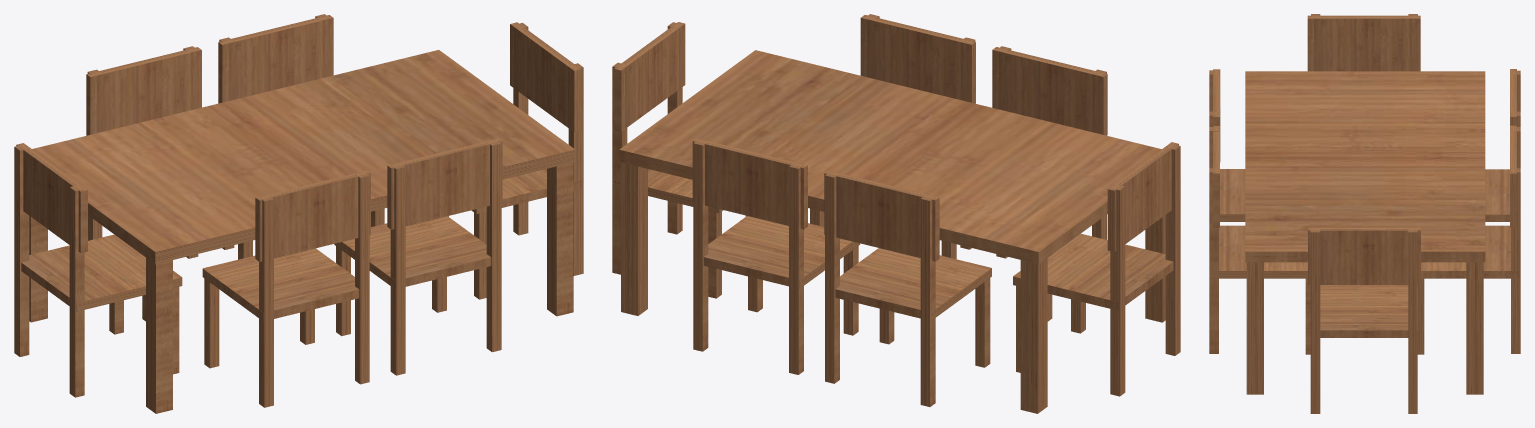
The model's file is table.gltf.
3 renders of one model, left to right at view 1: azimuth 30°, elevation 25°; view 2: azimuth 150°, elevation 25°; view 3: azimuth 270°, elevation 25°, orthographic. The views are drawn at different scales.
Visible parts, largest first — view 1: Cube, Cube.011, Cube.022, Cube.028, Cube.034, Cube.023, Cube.005, Cube.029, Cube.035, Cube.001, Cube.002, Cube.010 (+14 smaller); view 2: Cube, Cube.023, Cube.034, Cube.016, Cube.011, Cube.022, Cube.005, Cube.017, Cube.035, Cube.004, Cube.003, Cube.010 (+14 smaller); view 3: Cube, Cube.010, Cube.035, Cube.040, Cube.002, Cube.003, Cube.029, Cube.017, Cube.037, Cube.038, Cube.020, Cube.031 (+8 smaller).
Part boxes in pixels (x1=…): Cube: x1=32, y1=50, x2=575, y2=264; Cube.011: x1=86, y1=47, x2=201, y2=135; Cube.022: x1=218, y1=15, x2=333, y2=103; Cube.028: x1=202, y1=248, x2=359, y2=321; Cube.034: x1=387, y1=138, x2=502, y2=229; Cube.023: x1=255, y1=170, x2=370, y2=261; Cube.005: x1=21, y1=234, x2=182, y2=311; Cube.029: x1=334, y1=216, x2=491, y2=288; Cube.035: x1=510, y1=22, x2=581, y2=132; Cube.001: x1=146, y1=258, x2=172, y2=413; Cube.002: x1=547, y1=162, x2=573, y2=316; Cube.010: x1=16, y1=143, x2=87, y2=252; Cube: x1=619, y1=50, x2=1161, y2=264; Cube.023: x1=992, y1=47, x2=1107, y2=135; Cube.034: x1=860, y1=15, x2=975, y2=103; Cube.016: x1=835, y1=248, x2=991, y2=320; Cube.011: x1=824, y1=170, x2=939, y2=261; Cube.022: x1=692, y1=138, x2=807, y2=229; Cube.005: x1=1013, y1=233, x2=1173, y2=310; Cube.017: x1=703, y1=216, x2=860, y2=288; Cube.035: x1=614, y1=22, x2=685, y2=131; Cube.004: x1=1020, y1=258, x2=1047, y2=413; Cube.003: x1=621, y1=162, x2=647, y2=315; Cube.010: x1=1107, y1=142, x2=1178, y2=251; Cube: x1=1245, y1=71, x2=1485, y2=262; Cube.010: x1=1307, y1=15, x2=1420, y2=71; Cube.035: x1=1308, y1=227, x2=1420, y2=284; Cube.040: x1=1320, y1=285, x2=1417, y2=337; Cube.002: x1=1246, y1=262, x2=1263, y2=394; Cube.003: x1=1466, y1=262, x2=1483, y2=394; Cube.029: x1=1210, y1=225, x2=1307, y2=278; Cube.017: x1=1421, y1=225, x2=1519, y2=278; Cube.037: x1=1310, y1=228, x2=1320, y2=413; Cube.038: x1=1408, y1=228, x2=1417, y2=413; Cube.020: x1=1511, y1=168, x2=1520, y2=353; Cube.031: x1=1209, y1=168, x2=1218, y2=353.
Bounding box in the file's own units: 2.31 × 0.9009 × 1.39.
1 material, 1 textured.
